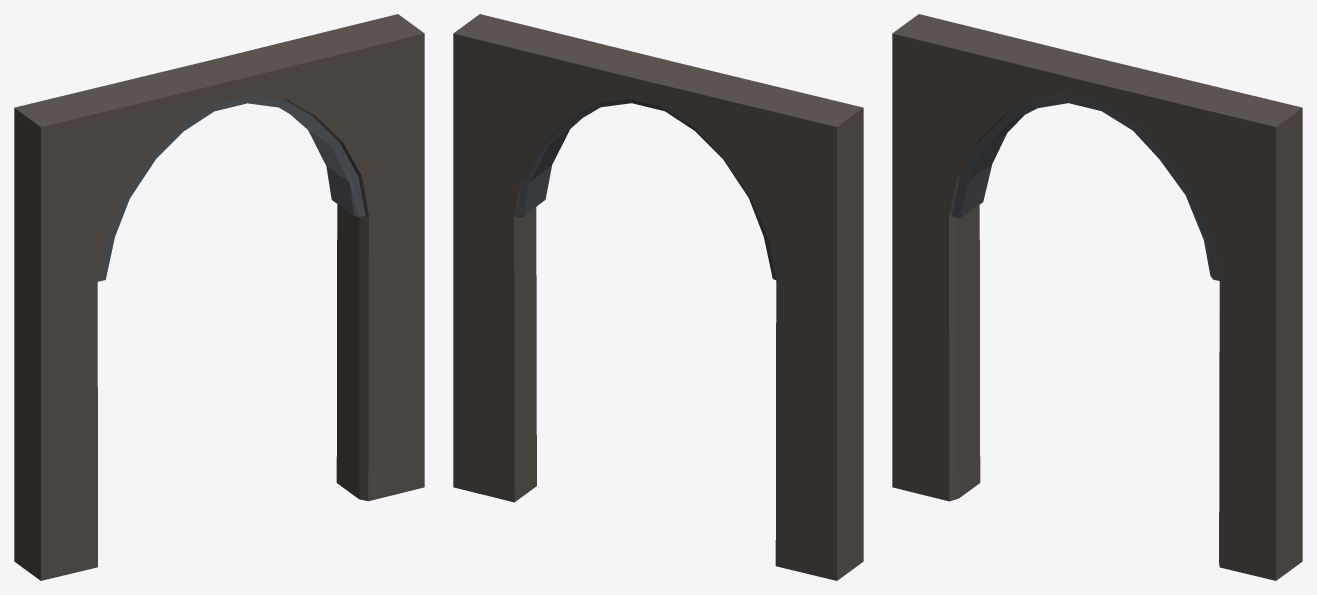
Rendered from MCastle_WindowWall_02_Int_B.FBX.
The picture shows the model from 3 angles, left to right: view 1: azimuth 30°, elevation 25°; view 2: azimuth 150°, elevation 25°; view 3: azimuth 330°, elevation 25°; orthographic projection.
Parts seen in each view (by area): view 1: MCastle_WindowWall_02_Int_B_LOD0; view 2: MCastle_WindowWall_02_Int_B_LOD0; view 3: MCastle_WindowWall_02_Int_B_LOD0.
Boxes of the visible parts, x1,y1,x2,y2 form: MCastle_WindowWall_02_Int_B_LOD0: (14, 14, 424, 580); MCastle_WindowWall_02_Int_B_LOD0: (453, 14, 863, 580); MCastle_WindowWall_02_Int_B_LOD0: (892, 14, 1302, 580).
Size of what is drawn, in the model's own units: 3.57 by 4.04 by 0.4298.
